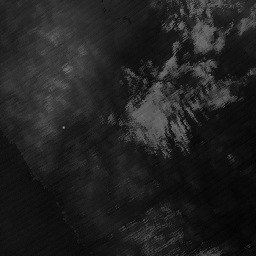Target: (60, 124, 67, 130)
